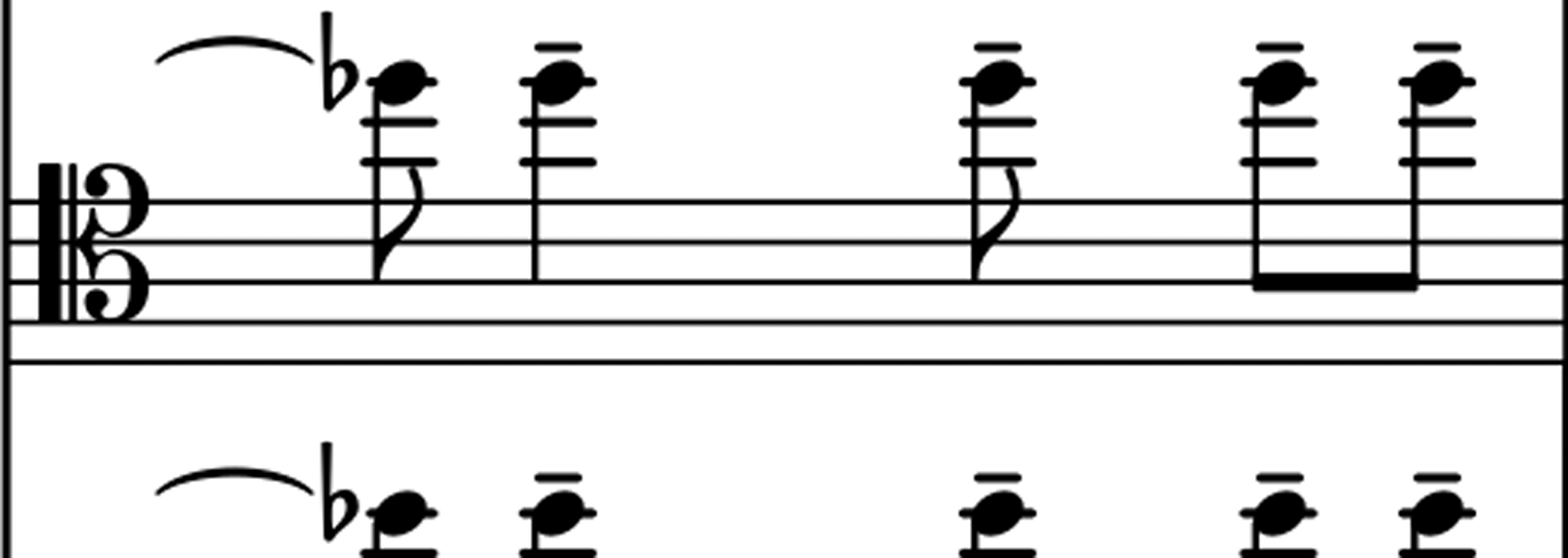accidentalFlat: (321, 11, 357, 111), (321, 442, 357, 541)
clefCTenor: (31, 151, 178, 341)
ledgerLine: (519, 118, 596, 125)
noteheadBlackOnLine: (968, 492, 1022, 534), (1407, 492, 1462, 533), (1250, 492, 1305, 532), (373, 492, 425, 534), (531, 492, 583, 534), (374, 61, 425, 103), (1411, 61, 1462, 103), (1254, 61, 1304, 103), (533, 61, 582, 103), (973, 62, 1022, 103), (1411, 492, 1462, 522)
slur: (156, 37, 312, 63), (156, 469, 312, 494)
